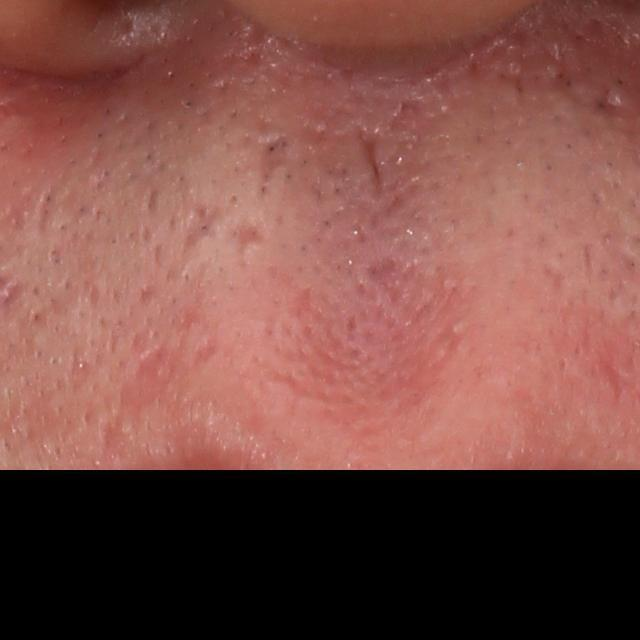atrophic_scar: (98, 343, 219, 456), (181, 205, 226, 264), (259, 132, 294, 197), (597, 348, 635, 403), (352, 126, 382, 190), (237, 219, 265, 264), (589, 85, 621, 120), (35, 184, 55, 238)
